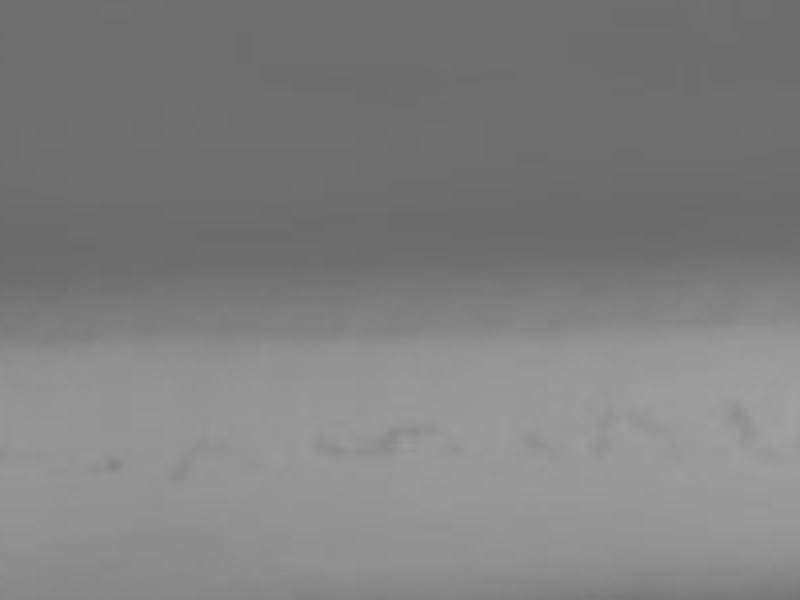defect: (315, 431, 342, 458), (375, 428, 400, 453), (168, 456, 192, 480), (630, 410, 654, 431), (526, 429, 548, 451), (584, 439, 605, 460), (422, 418, 442, 438), (757, 444, 777, 464), (445, 440, 464, 459), (728, 401, 747, 420), (192, 435, 211, 454), (402, 420, 420, 438), (599, 411, 617, 429), (742, 424, 760, 442), (106, 456, 123, 473), (347, 449, 361, 463)
